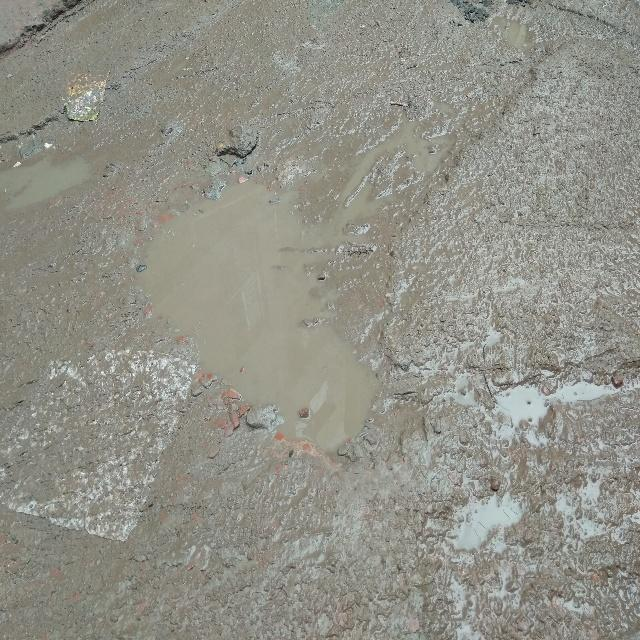Pothole: (151, 210, 378, 433)
Surface Erosion: (25, 78, 640, 628)
